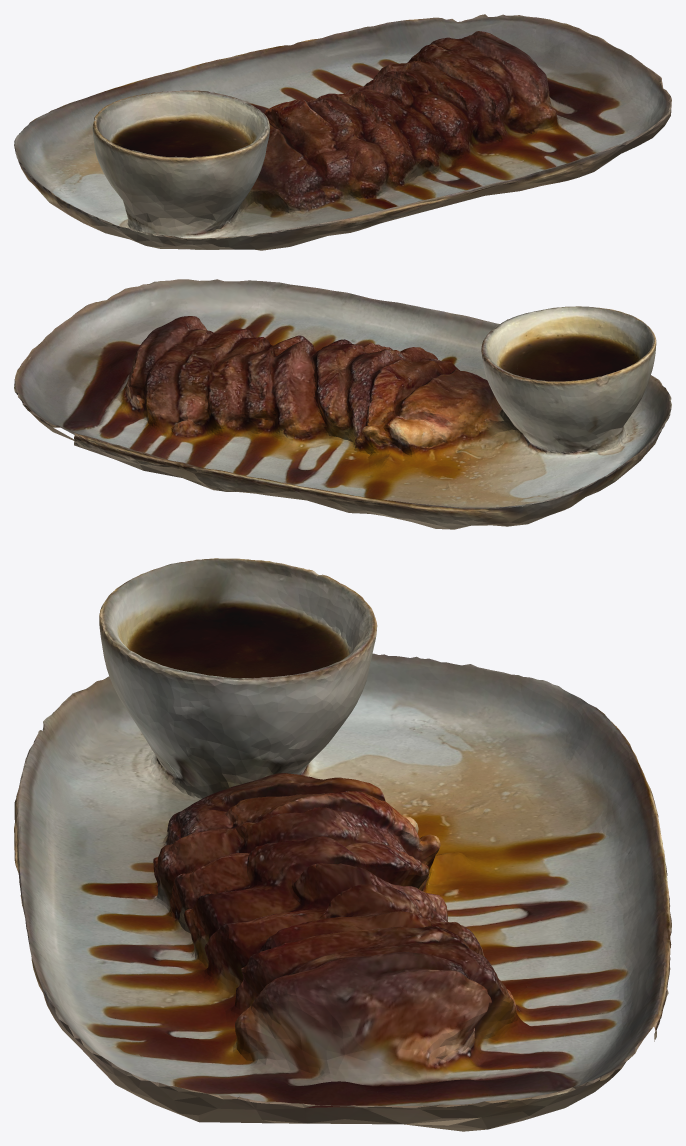
The model's file is essayer_site.glb.
3 renders of one model, top to bottom at view 1: azimuth 30°, elevation 25°; view 2: azimuth 150°, elevation 25°; view 3: azimuth 270°, elevation 25°, orthographic. The views are drawn at different scales.
Bounding box in the file's own units: 0.3098 × 0.0623 × 0.1954.
1 material, 1 textured.
